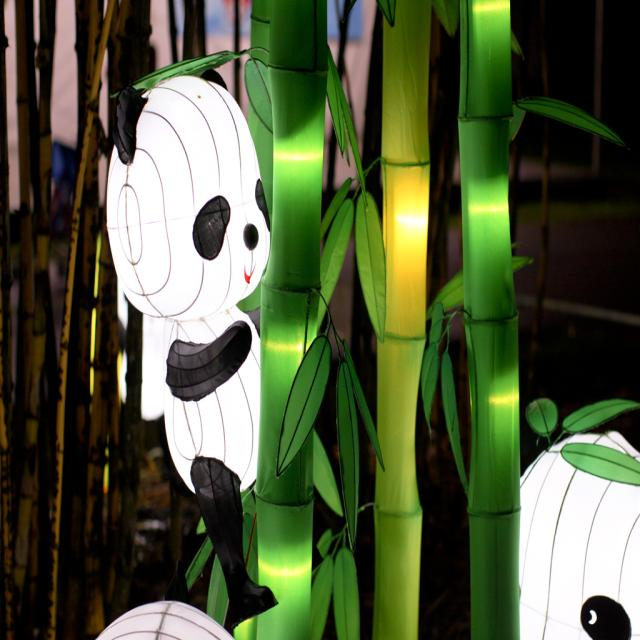panda: (105, 62, 269, 631), (516, 425, 640, 639)
